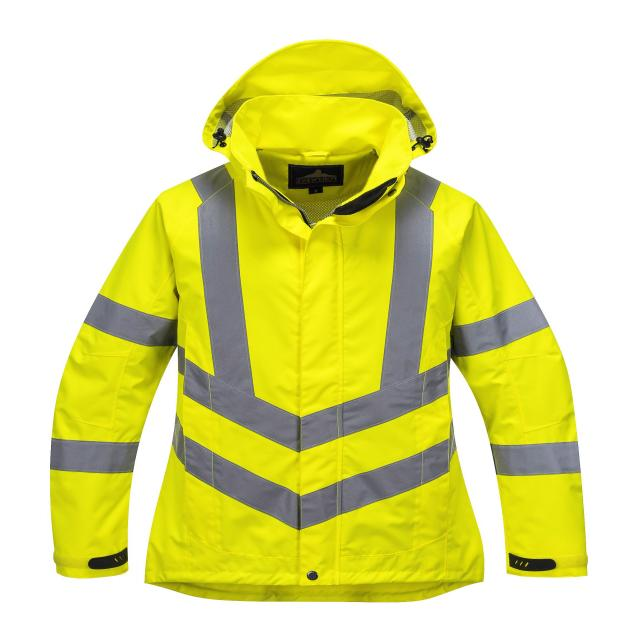Reflective-Jacket: (39, 136, 604, 612)
